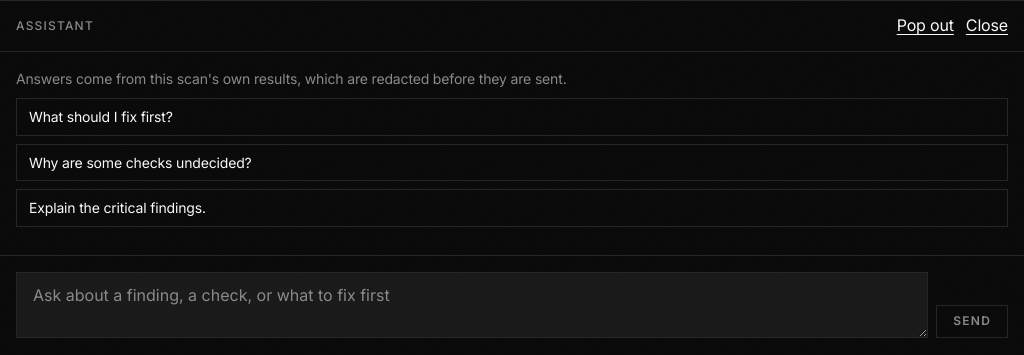
Assistant › renders an answer as structure rather than raw markdown
This screenshot has width=1024, height=355.
Type "hi" into the text box named "ask about this scan" at (472, 305), box [16, 272, 928, 338]
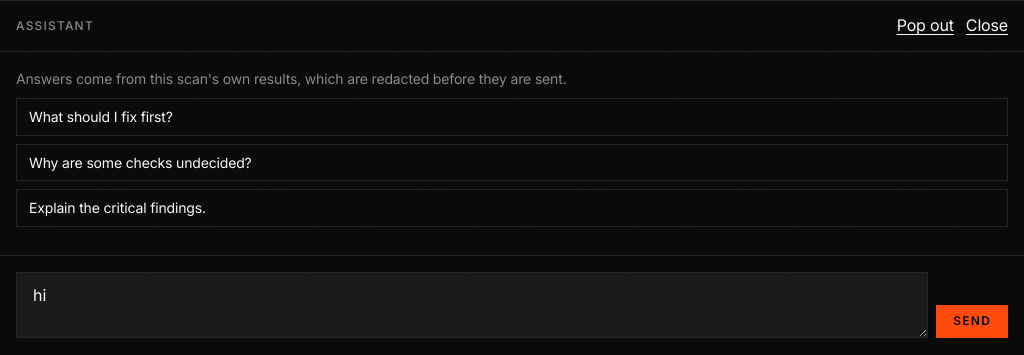
Click the button "Send" at (972, 322), box [936, 305, 1008, 338]
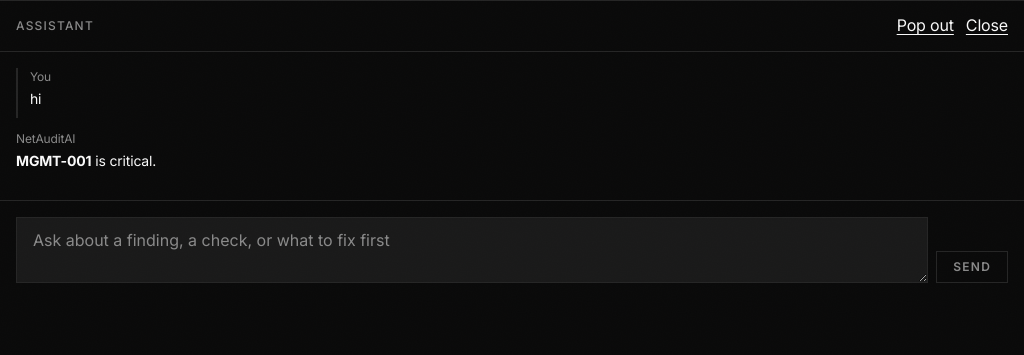
Check: the text "MGMT-001" is shown, box [16, 152, 91, 170]
